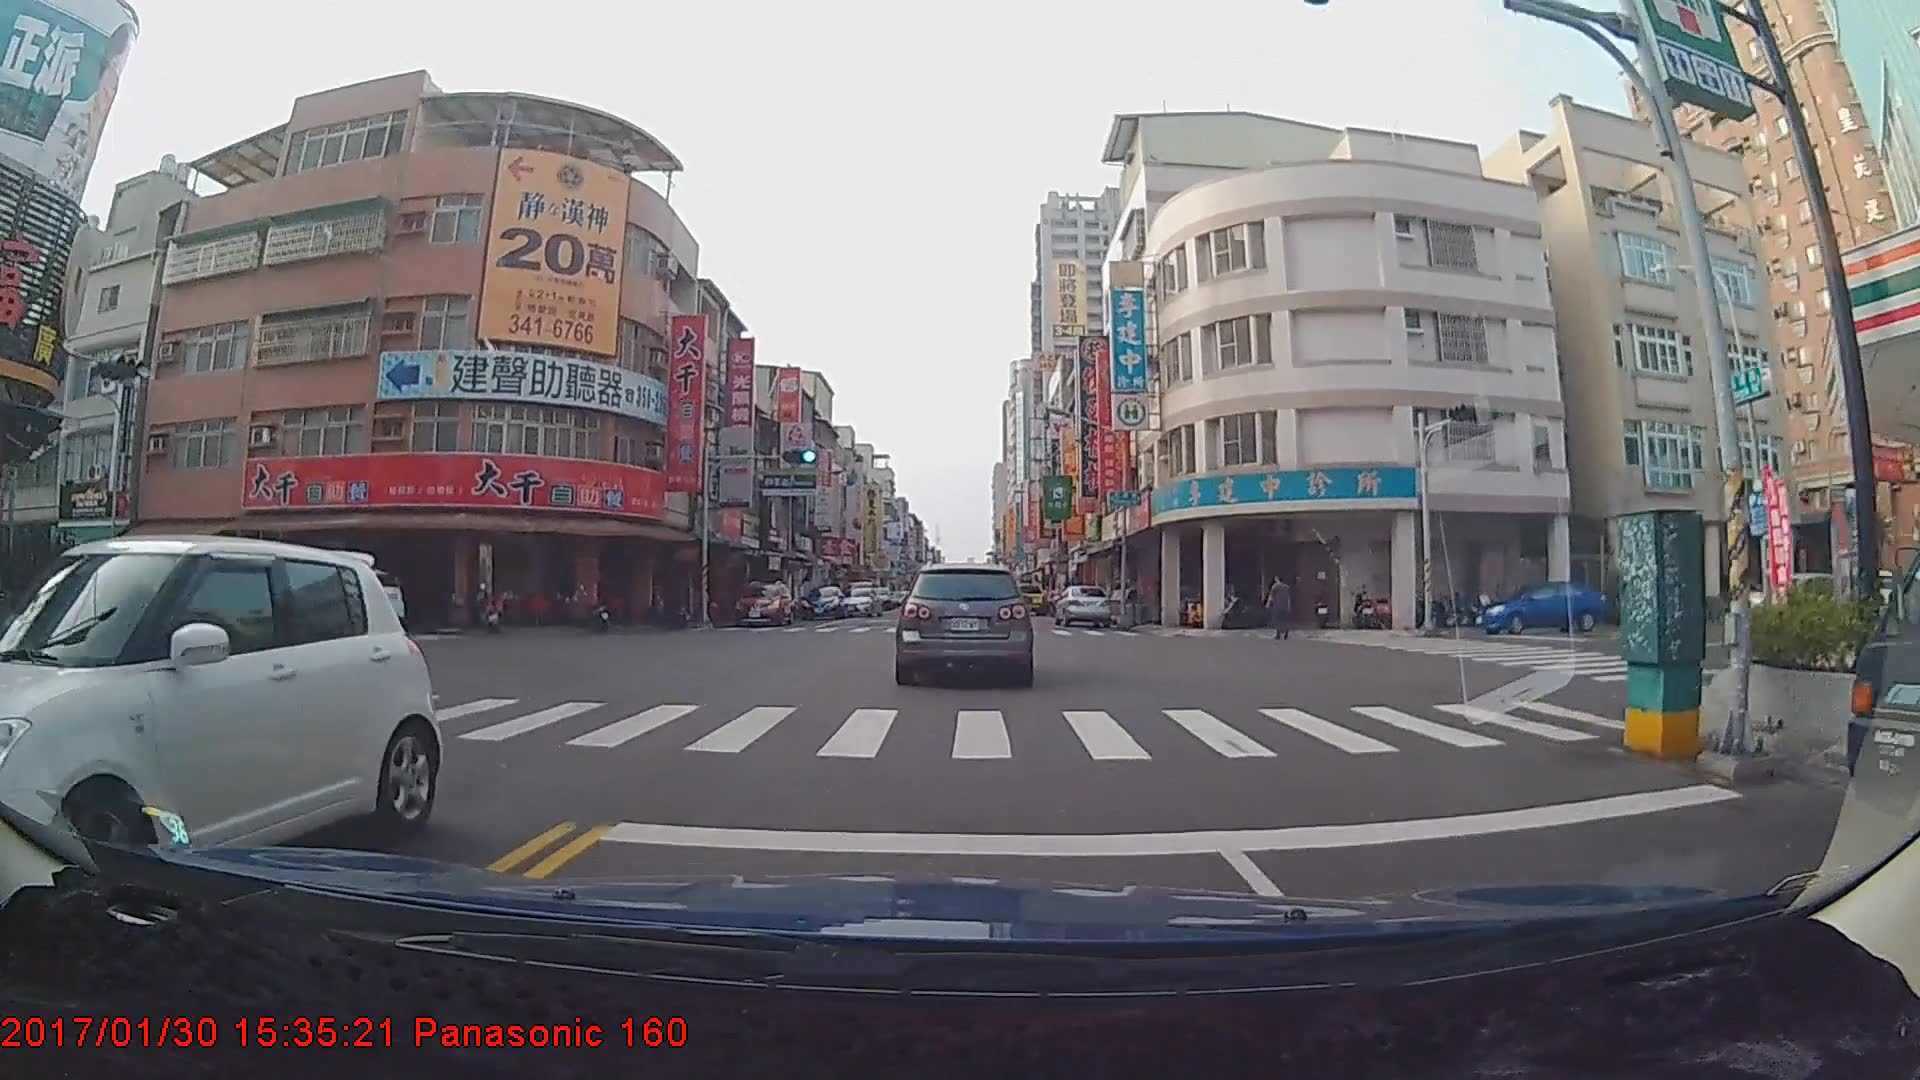pedestrian: (1266, 575, 1295, 645)
vehicle: (0, 535, 442, 921), (895, 561, 1033, 686), (1474, 581, 1605, 635), (734, 577, 793, 626), (1050, 581, 1111, 625), (799, 581, 846, 616), (836, 585, 881, 614), (1009, 581, 1046, 614)
